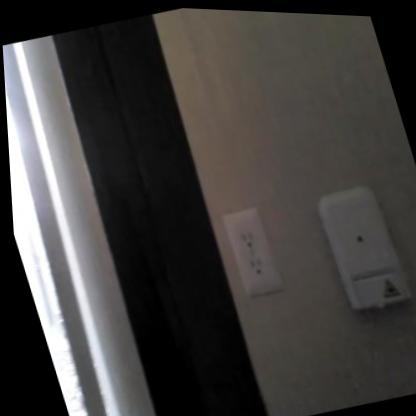OUTLET: (222, 205, 283, 298)
